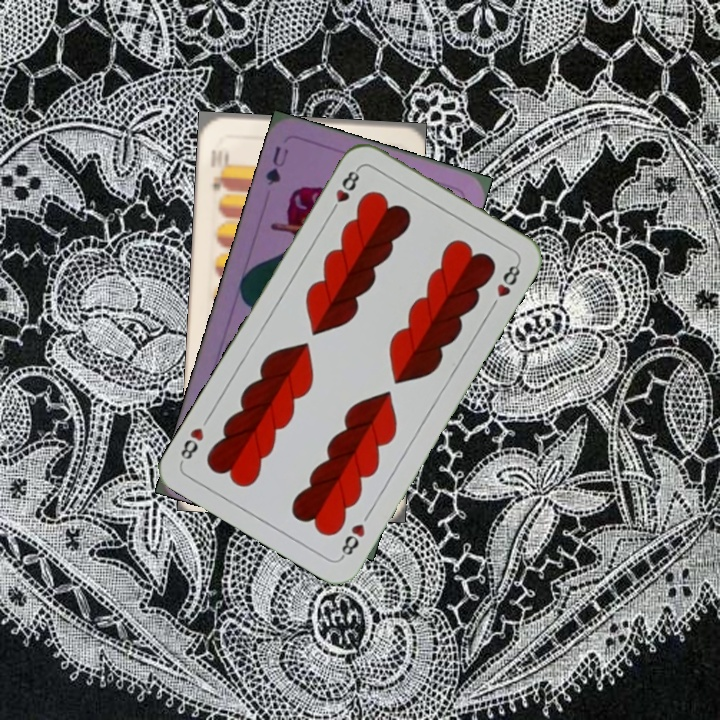E10: (206, 145, 229, 194)
GU: (261, 142, 291, 188)
H8: (326, 164, 363, 217), (337, 519, 368, 562)
